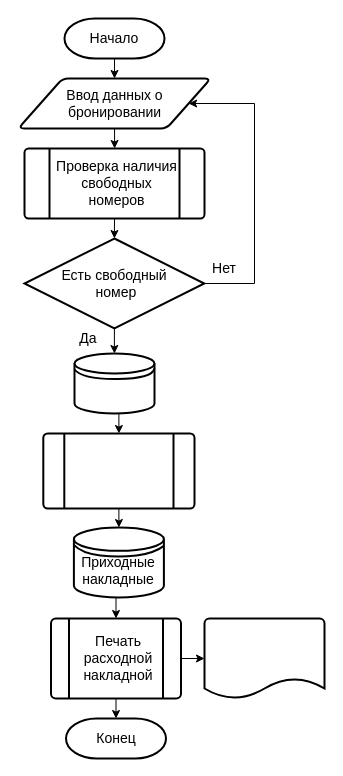
Some shapes in this 343 by 776 pixel diagram are drawn without their labels. Here are the shapes that lost their labels. From the top down, the centre of each, then its label:
(114,383): Брони
(118,470): Формирование расходной накладной
(264,658): Приходная накладная
